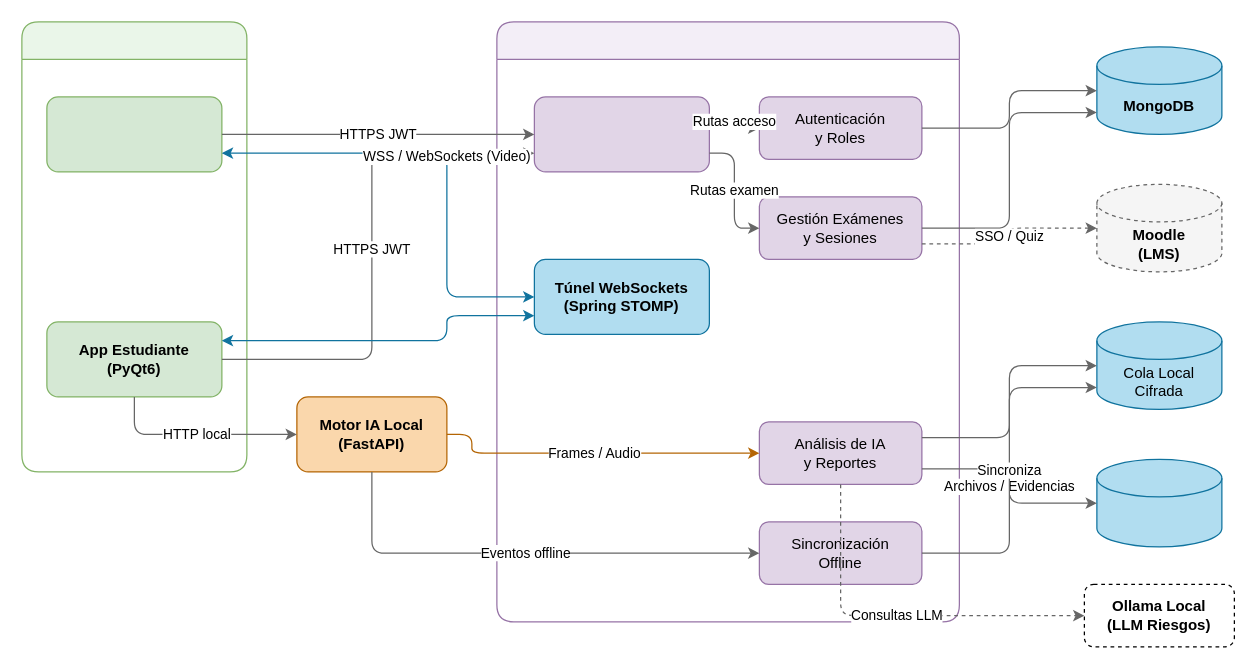
Image size: 1256x669. Some labels were removed from this diagram. The shapes that lost their labels are listed below. From the top down, each one's box as (x1, y1, x2, y2) in pixels, then its label:
(46, 96, 222, 172): App Docente (PyQt6)
(533, 96, 709, 172): API REST principal (Spring Boot)
(21, 21, 247, 472): Aplicaciones Cliente
(496, 21, 959, 622): Servicios Principales (Backend / Nube)
(1096, 458, 1222, 547): MinIO (Object Storage)
